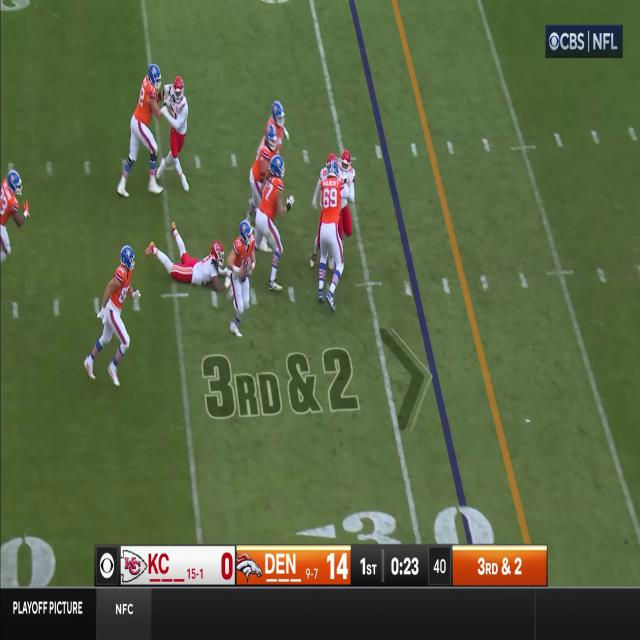Player: (97, 244, 135, 387), (128, 60, 163, 196), (256, 156, 285, 292), (226, 220, 256, 340), (318, 160, 341, 313), (164, 76, 188, 192), (0, 167, 27, 263), (162, 240, 226, 280), (251, 126, 278, 210), (340, 148, 358, 232)
